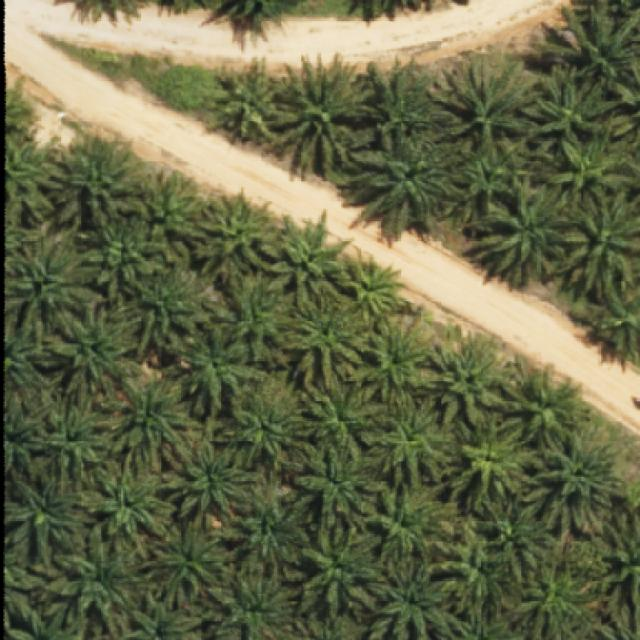Kelapa_Sawit: (25, 523, 153, 640), (339, 124, 463, 244), (272, 54, 376, 180), (429, 51, 545, 158), (465, 174, 569, 289), (88, 374, 204, 474), (42, 125, 144, 238), (525, 430, 630, 538), (111, 258, 222, 360), (47, 305, 151, 412), (275, 442, 383, 544), (162, 321, 268, 422), (212, 482, 312, 589), (359, 386, 459, 491), (214, 368, 314, 472), (522, 61, 629, 157), (448, 411, 546, 514), (299, 510, 384, 624), (263, 207, 355, 310), (282, 288, 370, 394), (159, 438, 266, 525), (503, 350, 594, 452), (355, 56, 450, 150), (293, 372, 385, 468), (428, 506, 502, 625), (214, 268, 301, 369), (366, 478, 459, 570), (137, 518, 226, 614), (466, 495, 556, 588), (77, 216, 172, 304), (428, 326, 509, 429), (198, 186, 280, 285), (27, 391, 107, 492), (82, 459, 178, 543), (205, 56, 290, 146), (128, 166, 207, 260), (450, 142, 538, 226), (546, 120, 631, 202), (367, 310, 441, 395), (333, 242, 405, 318)
